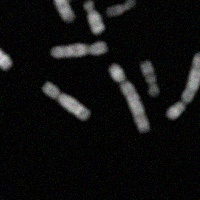chromosome: (110, 63, 150, 133), (167, 52, 200, 120), (43, 82, 91, 120), (50, 41, 105, 58), (83, 0, 104, 34), (141, 61, 161, 95), (47, 0, 76, 22), (106, 0, 137, 17), (0, 33, 11, 71), (73, 0, 116, 2)
